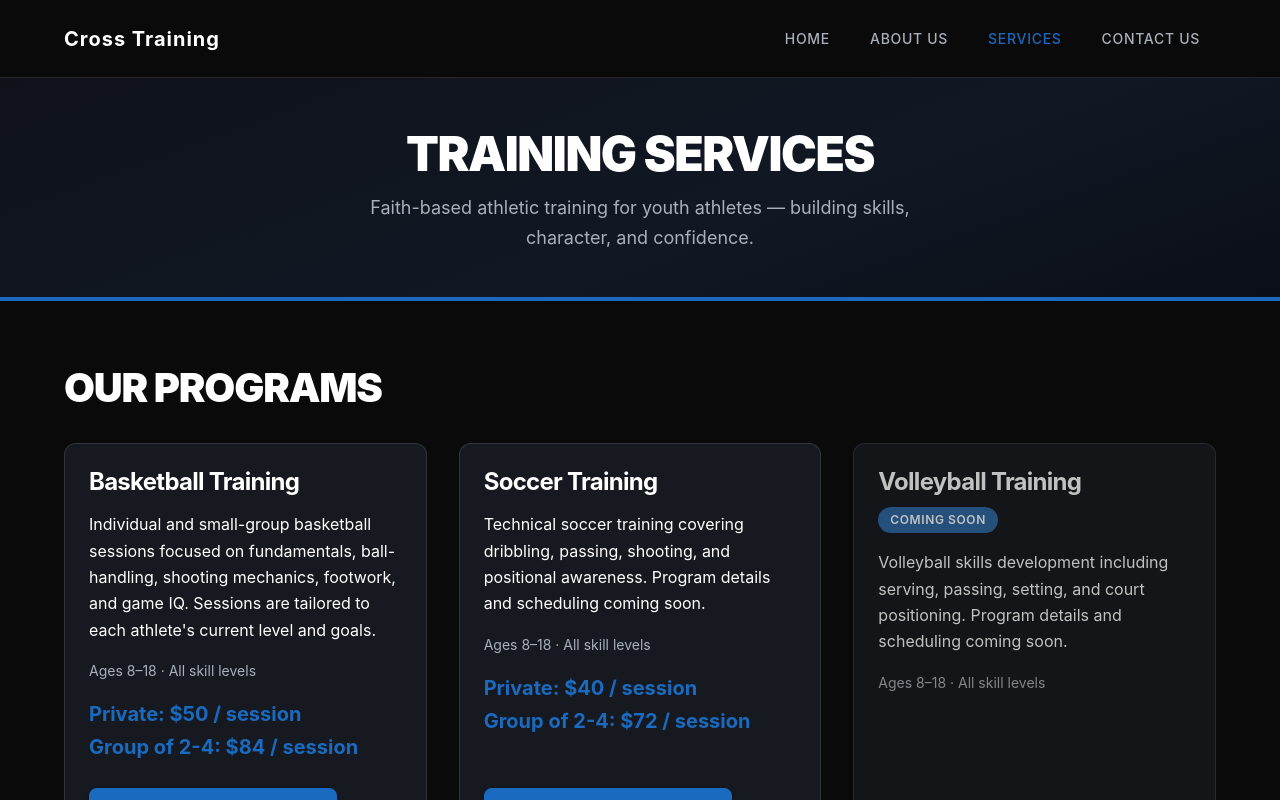
Test: App routing — integration › navigates to the Contact page when the "Contact Us" nav link is clicked
Click the link "Contact Us": [1151, 38] box [1102,30,1200,47]
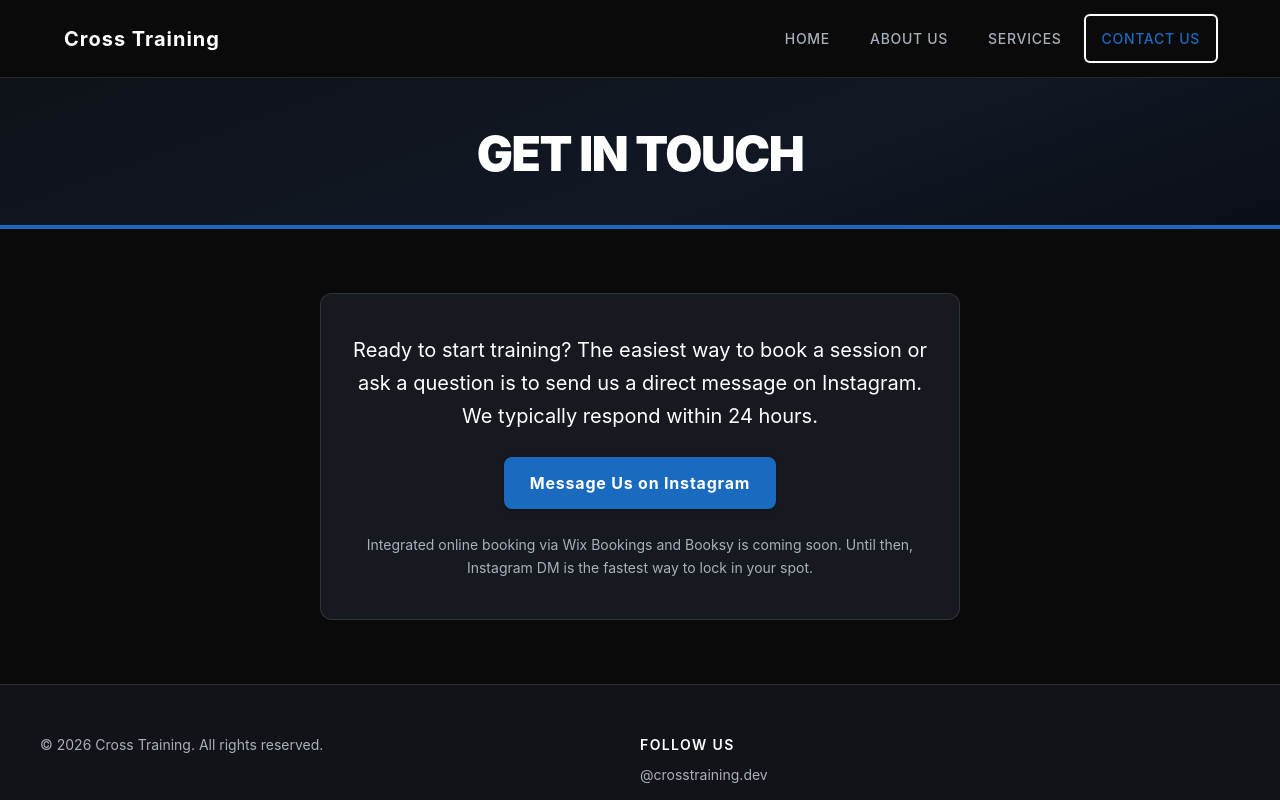
Expected: the heading "Get in Touch" is shown, [477,124,803,183]
